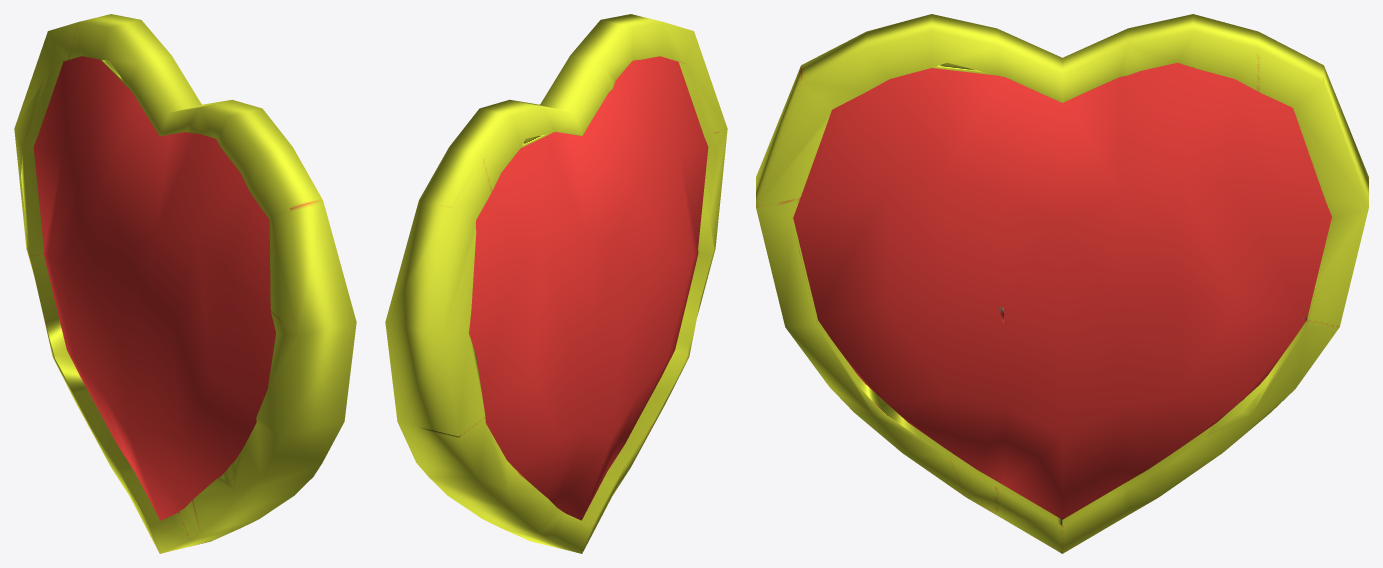
File: Heart.obj
3 views of the same model, side by side, from view 1: azimuth 30°, elevation 25°; view 2: azimuth 150°, elevation 25°; view 3: azimuth 270°, elevation 25° (orthographic). The views are drawn at different scales.
Visible parts, largest first — view 1: 立方体.002, 立方体.001; view 2: 立方体.002, 立方体.001; view 3: 立方体.002, 立方体.001.
Boxes of the visible parts, box(x1,y1,x2,y2) form: 立方体.002: box(33, 56, 275, 520); 立方体.001: box(14, 14, 356, 553); 立方体.002: box(469, 56, 708, 520); 立方体.001: box(385, 14, 727, 553); 立方体.002: box(793, 62, 1331, 519); 立方体.001: box(756, 14, 1368, 553).
Bounding box in the file's own units: 0.6426 × 2.18 × 2.34.
